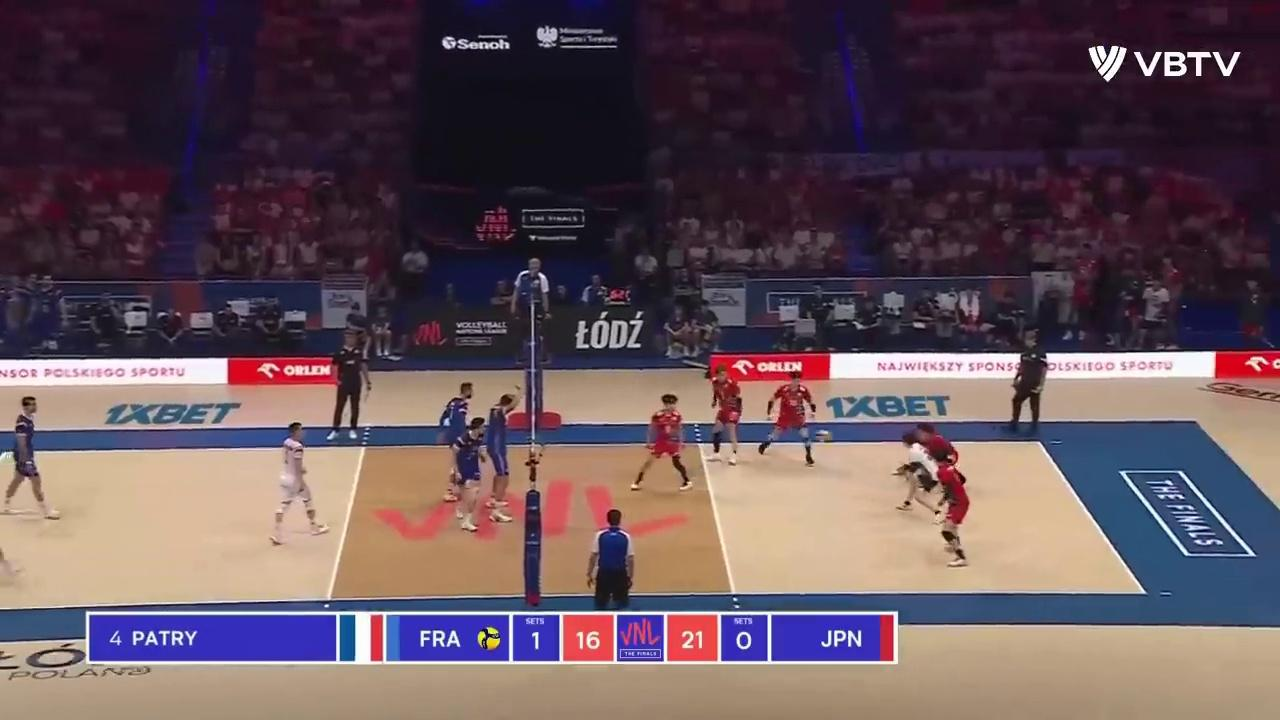ball: (813, 430, 833, 441)
